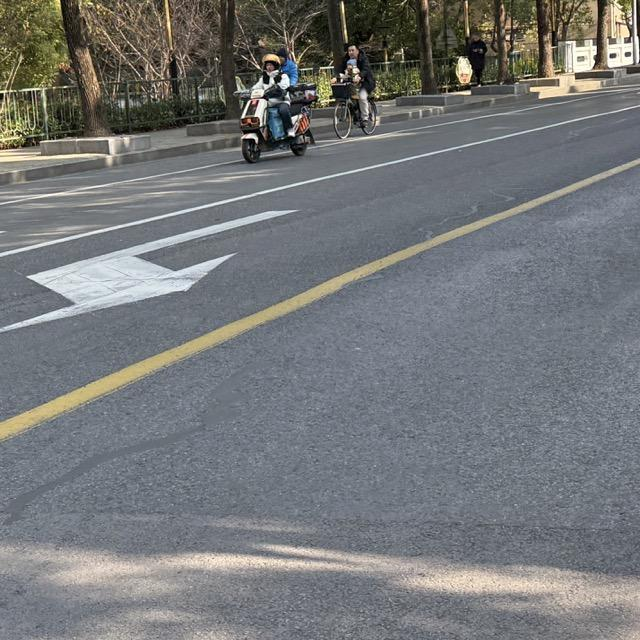curb: (0, 137, 239, 185), (380, 92, 538, 123), (35, 128, 190, 156), (472, 75, 575, 95), (396, 91, 506, 107), (570, 74, 639, 92), (187, 121, 238, 136), (575, 67, 626, 79), (315, 124, 335, 141), (626, 66, 639, 75)
